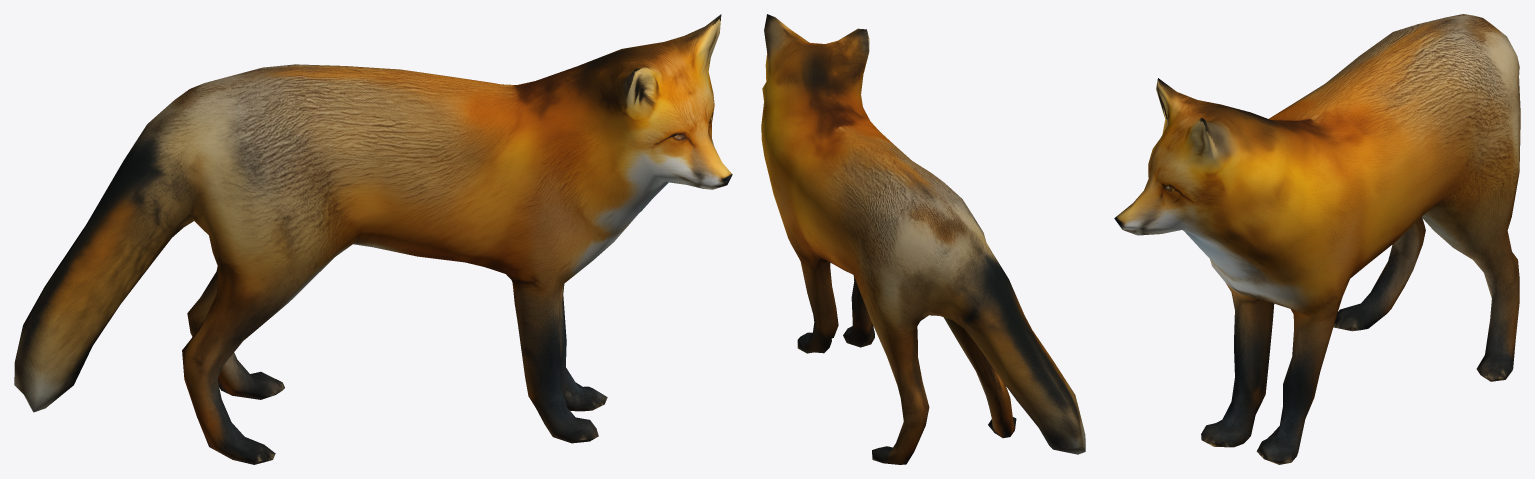
The model's file is fox_single_1500.glb.
3 renders of one model, left to right at view 1: azimuth 30°, elevation 25°; view 2: azimuth 150°, elevation 25°; view 3: azimuth 270°, elevation 25°, orthographic. The views are drawn at different scales.
Size of the model in its own units: 0.88 by 0.6198 by 0.567.
1 material, 1 textured.
